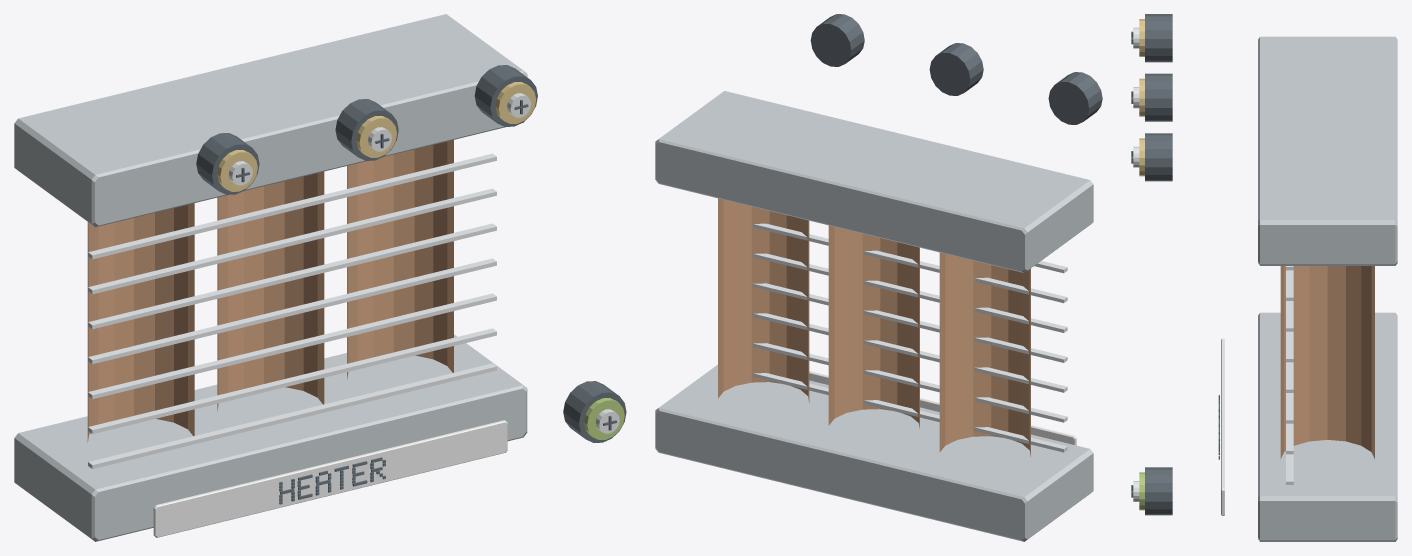
File: heater3Phase.glb
The picture shows the model from 3 angles, left to right: view 1: azimuth 30°, elevation 25°; view 2: azimuth 150°, elevation 25°; view 3: azimuth 270°, elevation 25°; orthographic projection. The views are drawn at different scales.
Visible parts, largest first — view 1: heater3Phase-preview; view 2: heater3Phase-preview; view 3: heater3Phase-preview.
Part boxes in pixels (left/top/right/bottom): heater3Phase-preview: left=14, top=14, right=626, bottom=541; heater3Phase-preview: left=655, top=14, right=1102, bottom=541; heater3Phase-preview: left=1131, top=14, right=1397, bottom=541.
Size of the model in its own units: 3.09 by 2.69 by 1.73.
